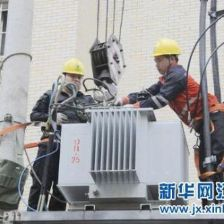helmet: (150, 38, 182, 76), (63, 57, 85, 96)
